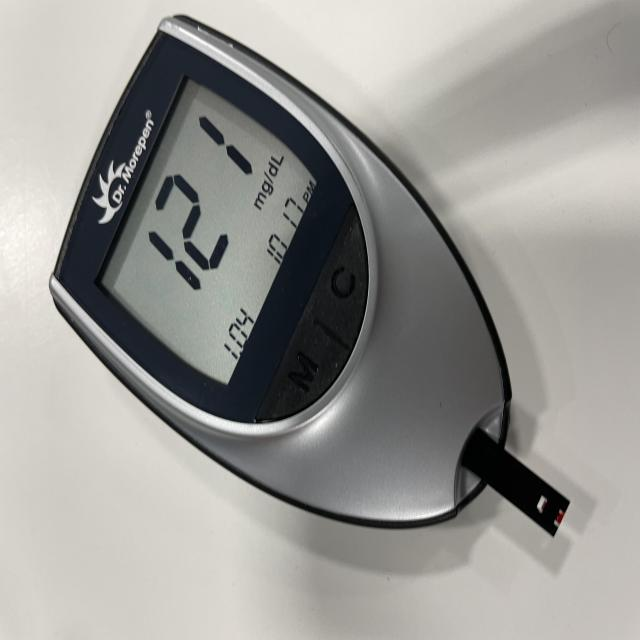gluco: (48, 15, 568, 535)
